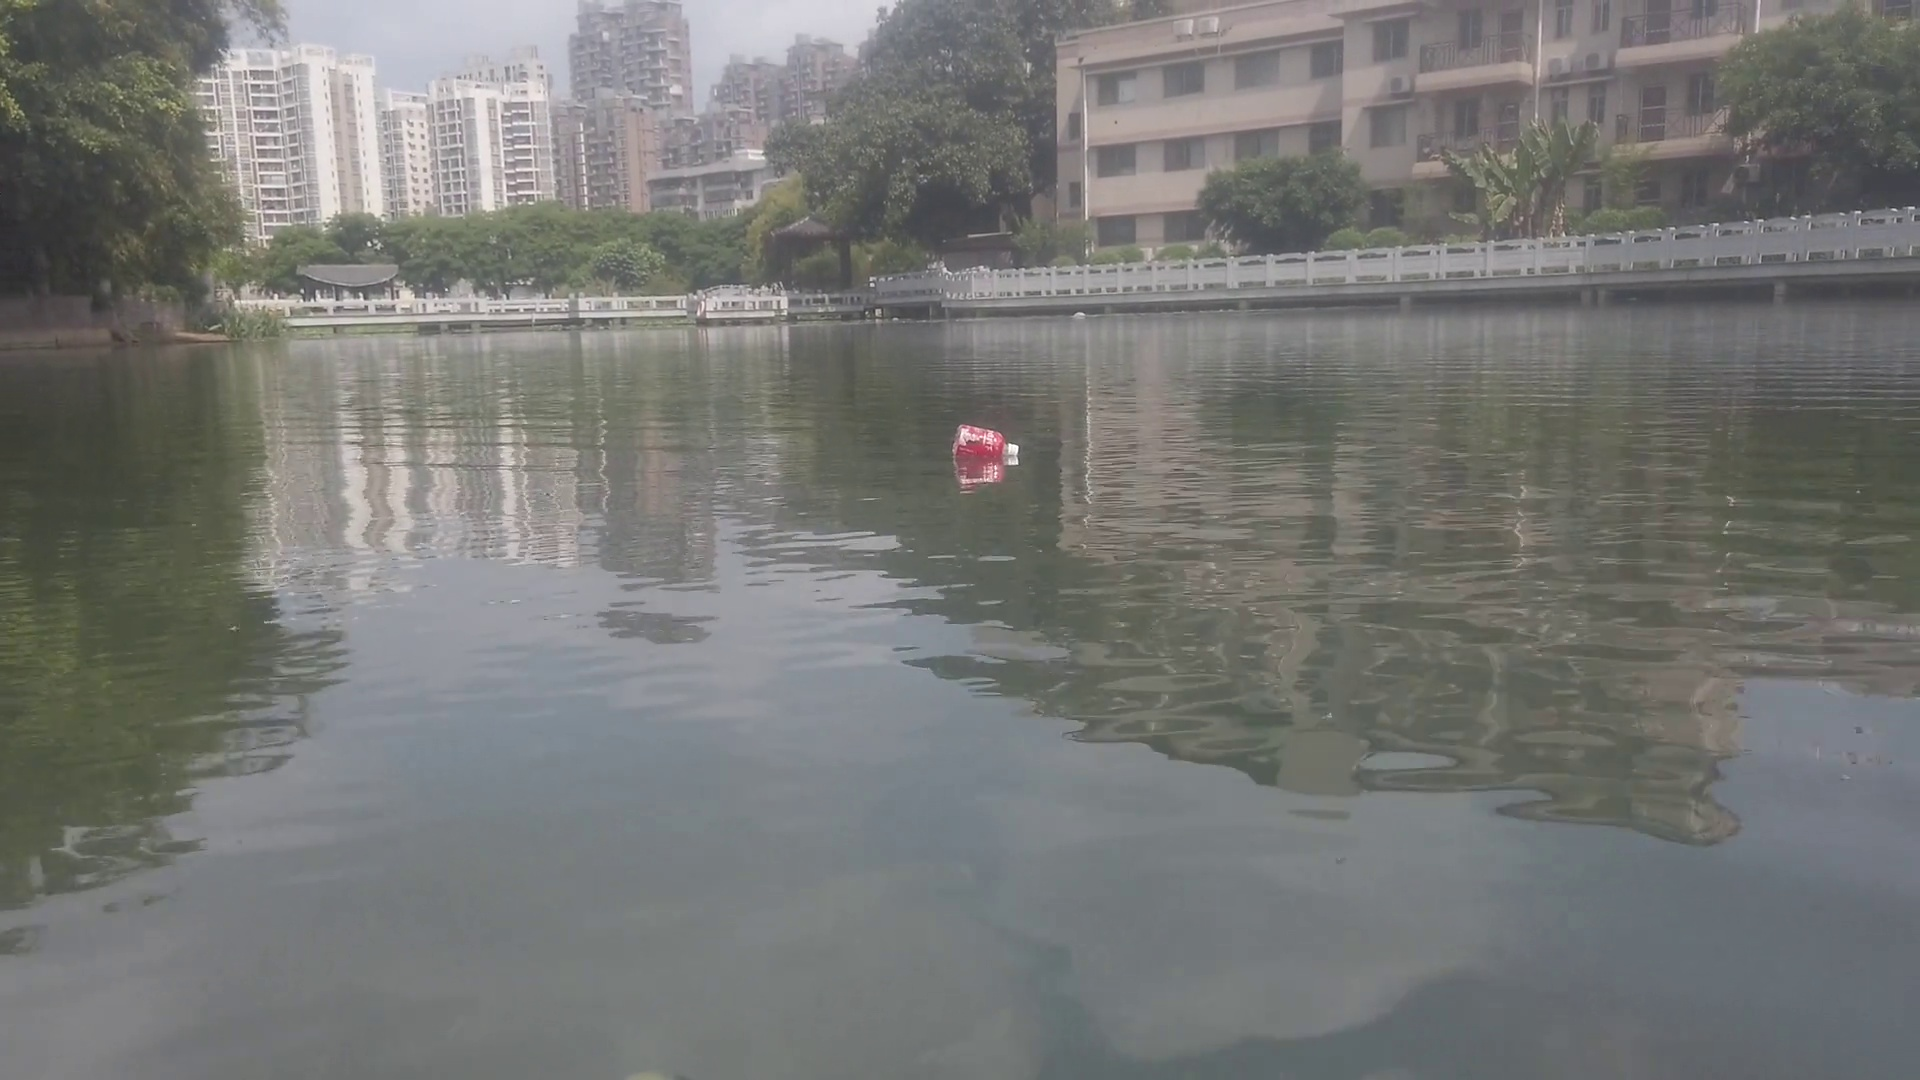bottle: (953, 425, 1021, 458)
plastic: (1069, 309, 1087, 316)
